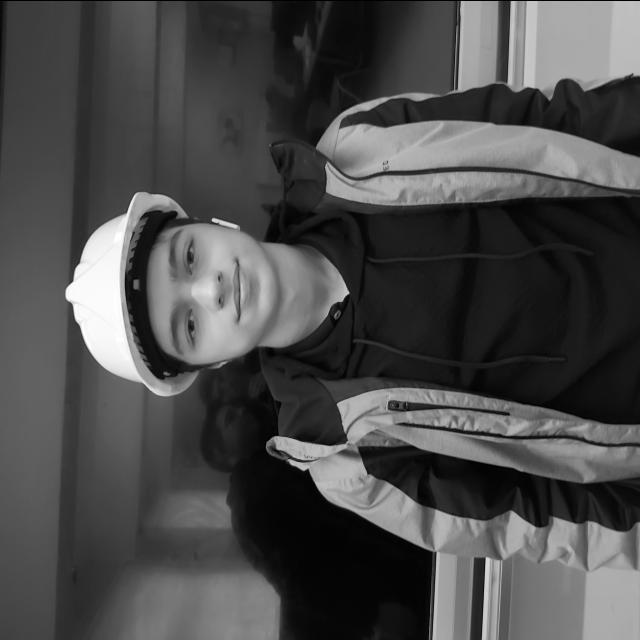safety_helmet: (67, 190, 203, 396)
